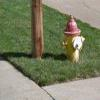Hydrant: (60, 12, 82, 69)
